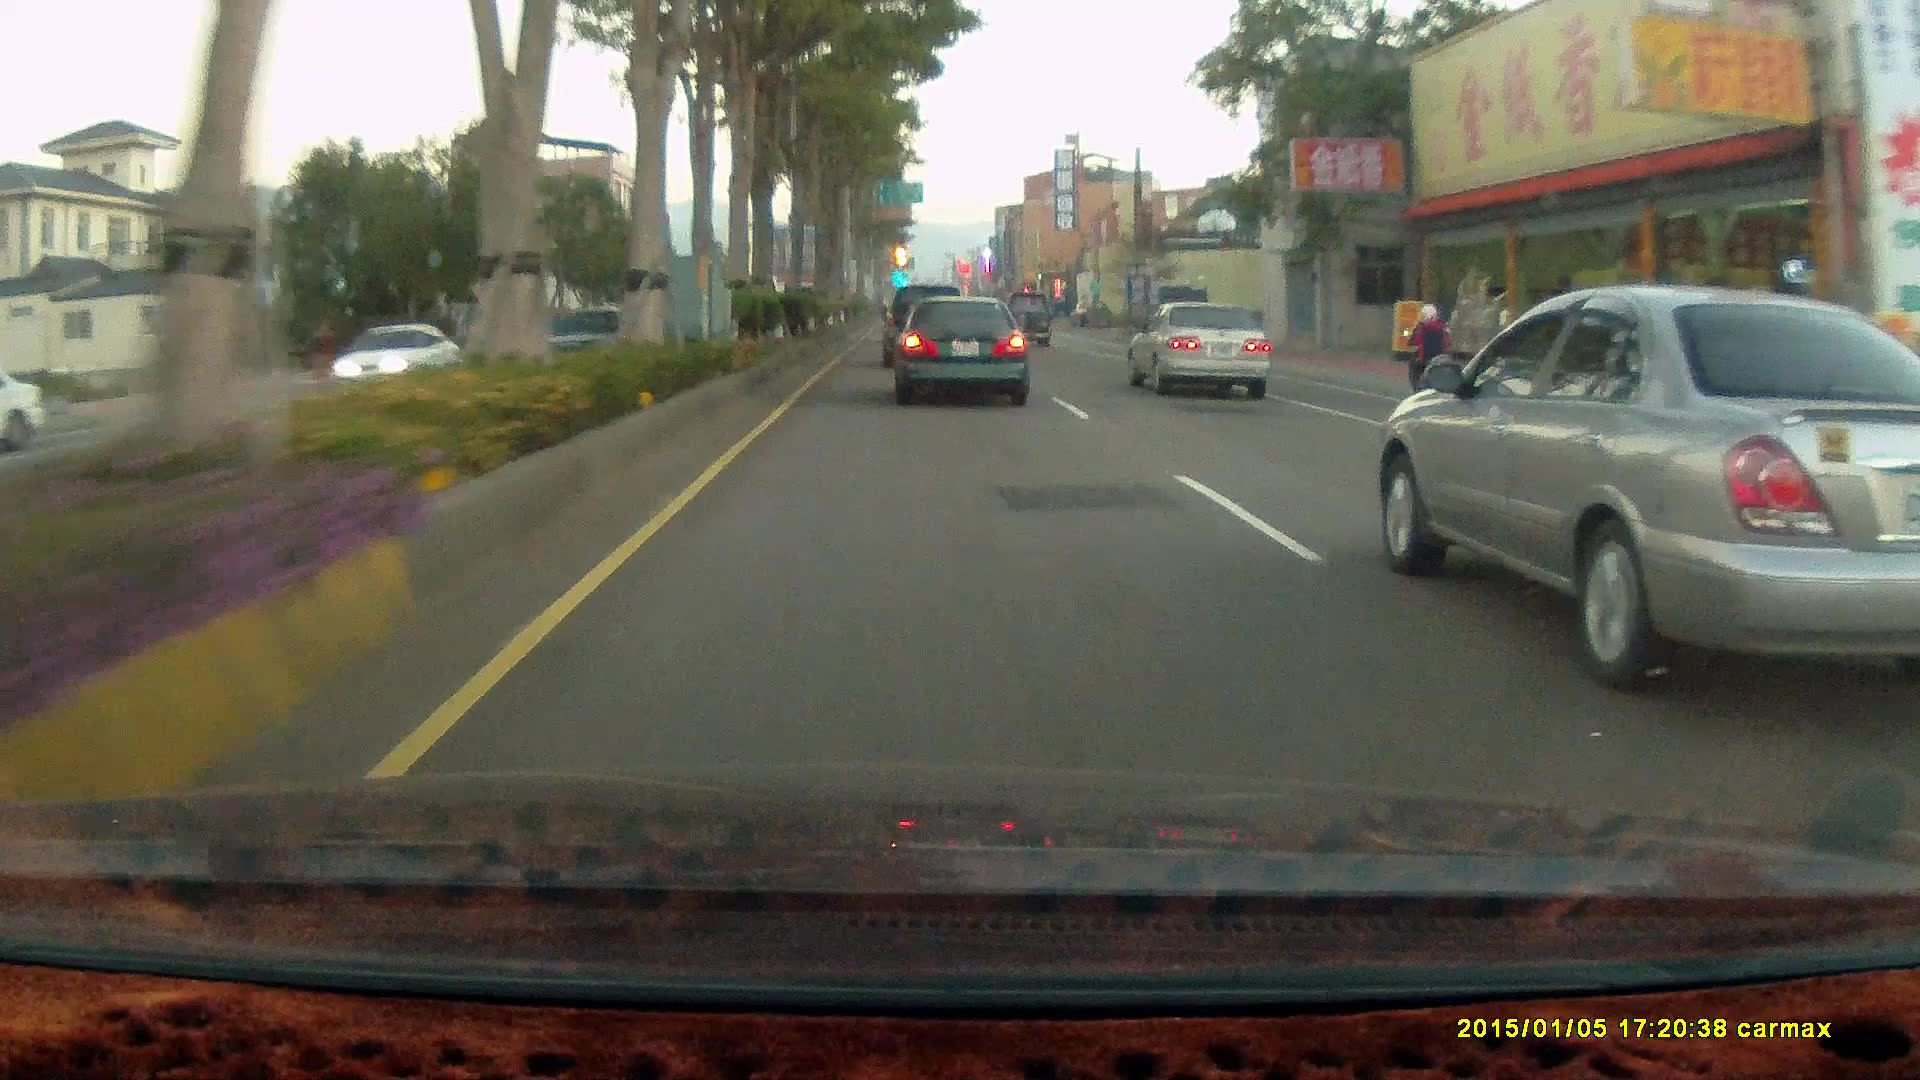rider: (1393, 295, 1465, 416), (1398, 299, 1459, 409)
vehicle: (1368, 289, 1920, 700), (893, 293, 1034, 412), (1125, 302, 1277, 406), (887, 293, 1027, 405), (1124, 298, 1269, 397), (328, 321, 462, 393), (329, 322, 463, 389), (883, 281, 972, 367), (882, 284, 964, 366), (540, 308, 646, 366), (1, 358, 50, 457), (1, 358, 49, 456), (1145, 282, 1209, 343), (1002, 288, 1051, 347)
